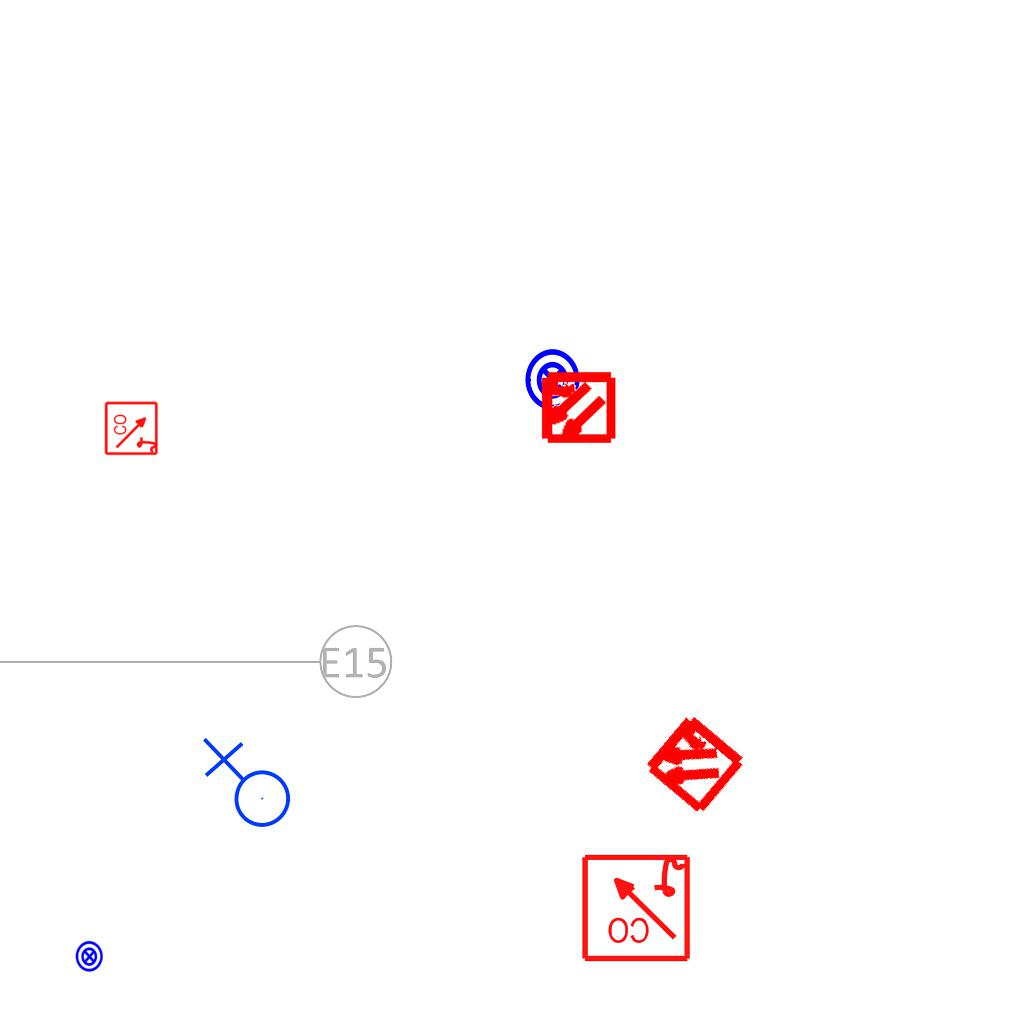Elektroanschluss_allgemein_230V_Geraeteanschlussdose_230V: (198, 737, 292, 836)
OT_Multisensormelder_(Kombination_RMO_WMD): (613, 682, 774, 843), (520, 351, 633, 464)
ROA_Rauchmelder_optisch_mit_Signalgeber_(Sockelsirene): (579, 850, 692, 963), (104, 400, 160, 456)
Taster_beleuchtet: (520, 347, 586, 413), (73, 940, 106, 973)
